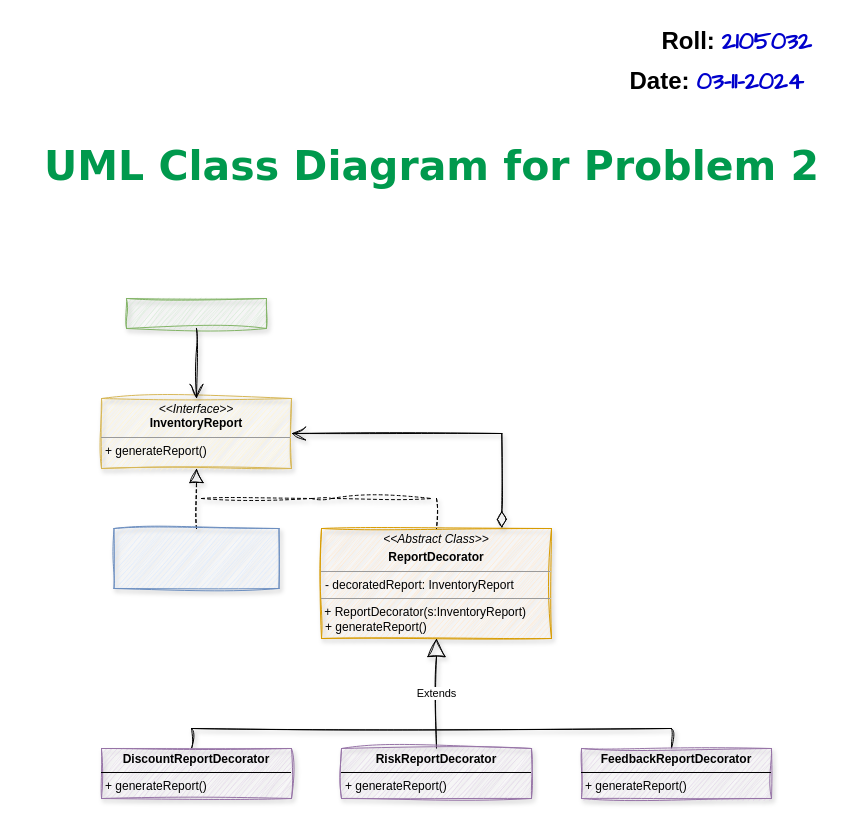
The diagram is 864 pixels wide and 823 high, and some of its shapes have lost their labels. The centre of each missing label's shape, as x and y in pixels:
Client: (197,315)
LegacyReport + generateReport(): (197,560)
